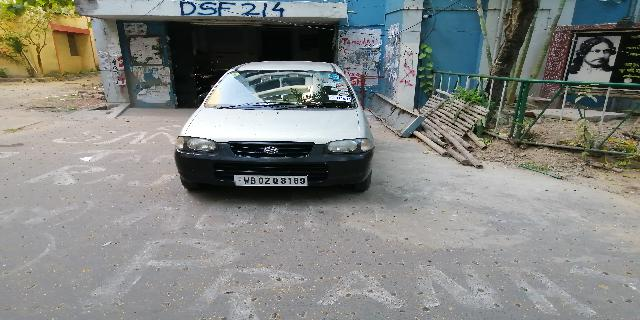Car: (173, 56, 378, 197)
